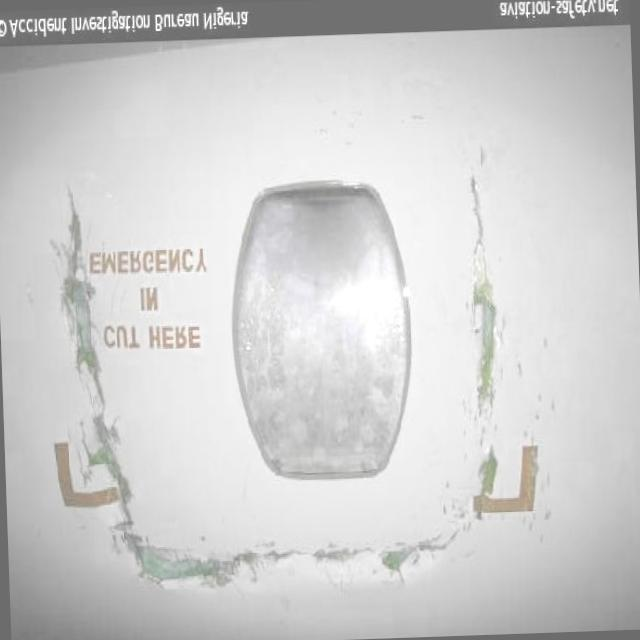crack: (52, 174, 139, 525), (125, 516, 466, 594), (464, 165, 500, 421), (477, 448, 502, 492)
